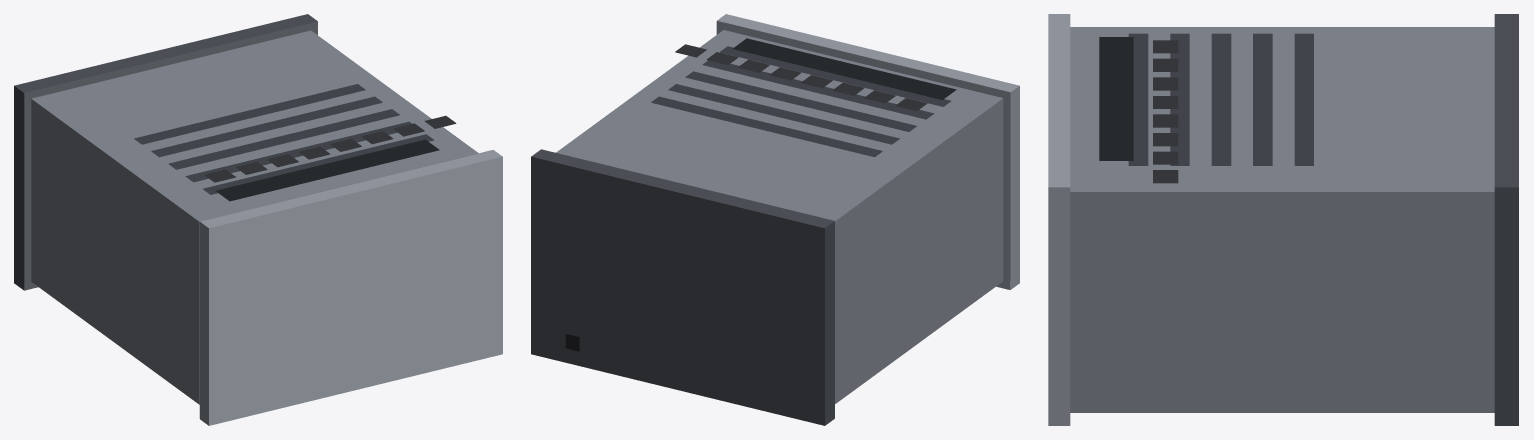
The model's file is bank_ground_premium_c0_S.obj.
3 views of the same model, side by side, from view 1: azimuth 30°, elevation 25°; view 2: azimuth 150°, elevation 25°; view 3: azimuth 270°, elevation 25° (orthographic). The views are drawn at different scales.
Parts seen in each view (by area): view 1: bank_ground_premium_c0_S; view 2: bank_ground_premium_c0_S; view 3: bank_ground_premium_c0_S.
Part boxes in pixels (x1=…): bank_ground_premium_c0_S: x1=14, y1=14, x2=502, y2=425; bank_ground_premium_c0_S: x1=531, y1=14, x2=1019, y2=425; bank_ground_premium_c0_S: x1=1048, y1=14, x2=1518, y2=425.
Bounding box in the file's own units: 0.84 × 0.546 × 0.9665.
Materials: 1 (1 with a texture image).
